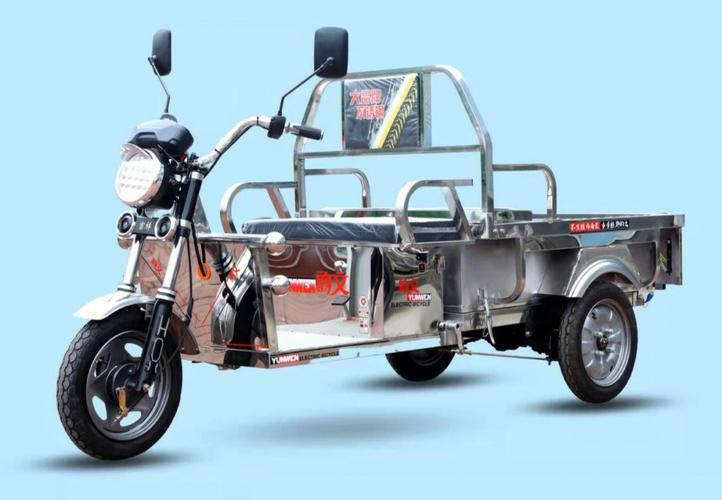empty: (36, 20, 710, 476)
